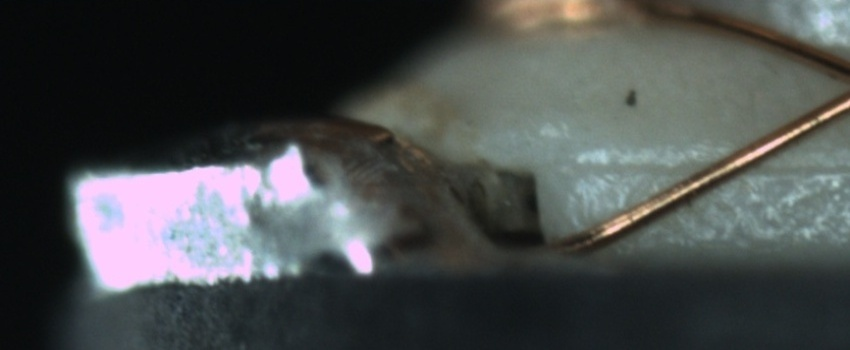CL: (829, 55, 850, 112)
DL: (574, 133, 848, 197)
